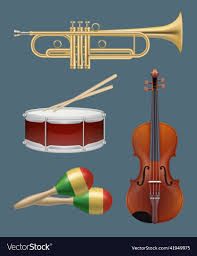Saxophone: (5, 15, 197, 107)
Violin: (124, 68, 192, 235)
